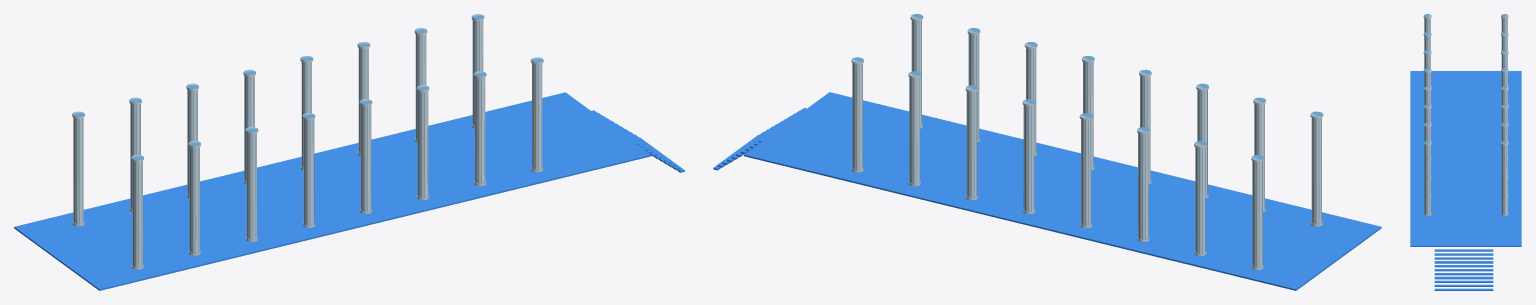
The model's file is TrainStation.1.fbx.
3 views of the same model, side by side, from view 1: azimuth 30°, elevation 25°; view 2: azimuth 150°, elevation 25°; view 3: azimuth 270°, elevation 25° (orthographic). The views are drawn at different scales.
Parts seen in each view (by area): view 1: stationwalk, Column, StraightStair001; view 2: stationwalk, Column, StraightStair001; view 3: stationwalk, Column, StraightStair001.
Part boxes in pixels (x1,y1,x2,y2): stationwalk: (14, 92, 650, 290); Column: (72, 14, 543, 269); StraightStair001: (591, 110, 684, 172); stationwalk: (744, 92, 1381, 290); Column: (851, 14, 1323, 269); StraightStair001: (713, 108, 806, 170); stationwalk: (1410, 71, 1521, 246); Column: (1423, 14, 1508, 215); StraightStair001: (1434, 249, 1493, 290).
Bounding box in the file's own units: 657 × 159 × 161.
2 materials, 1 textured.
